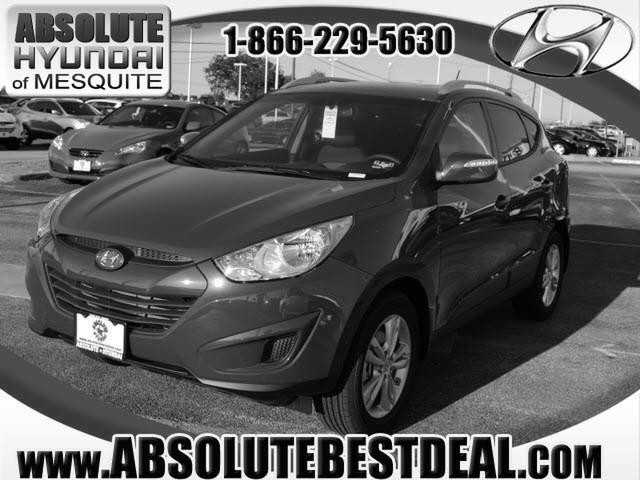car: (25, 77, 573, 438)
